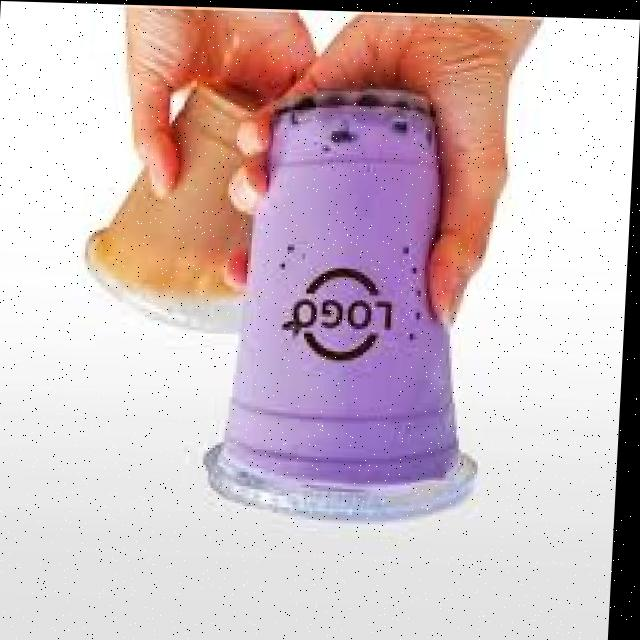cup: (209, 87, 482, 520), (87, 90, 253, 332)
